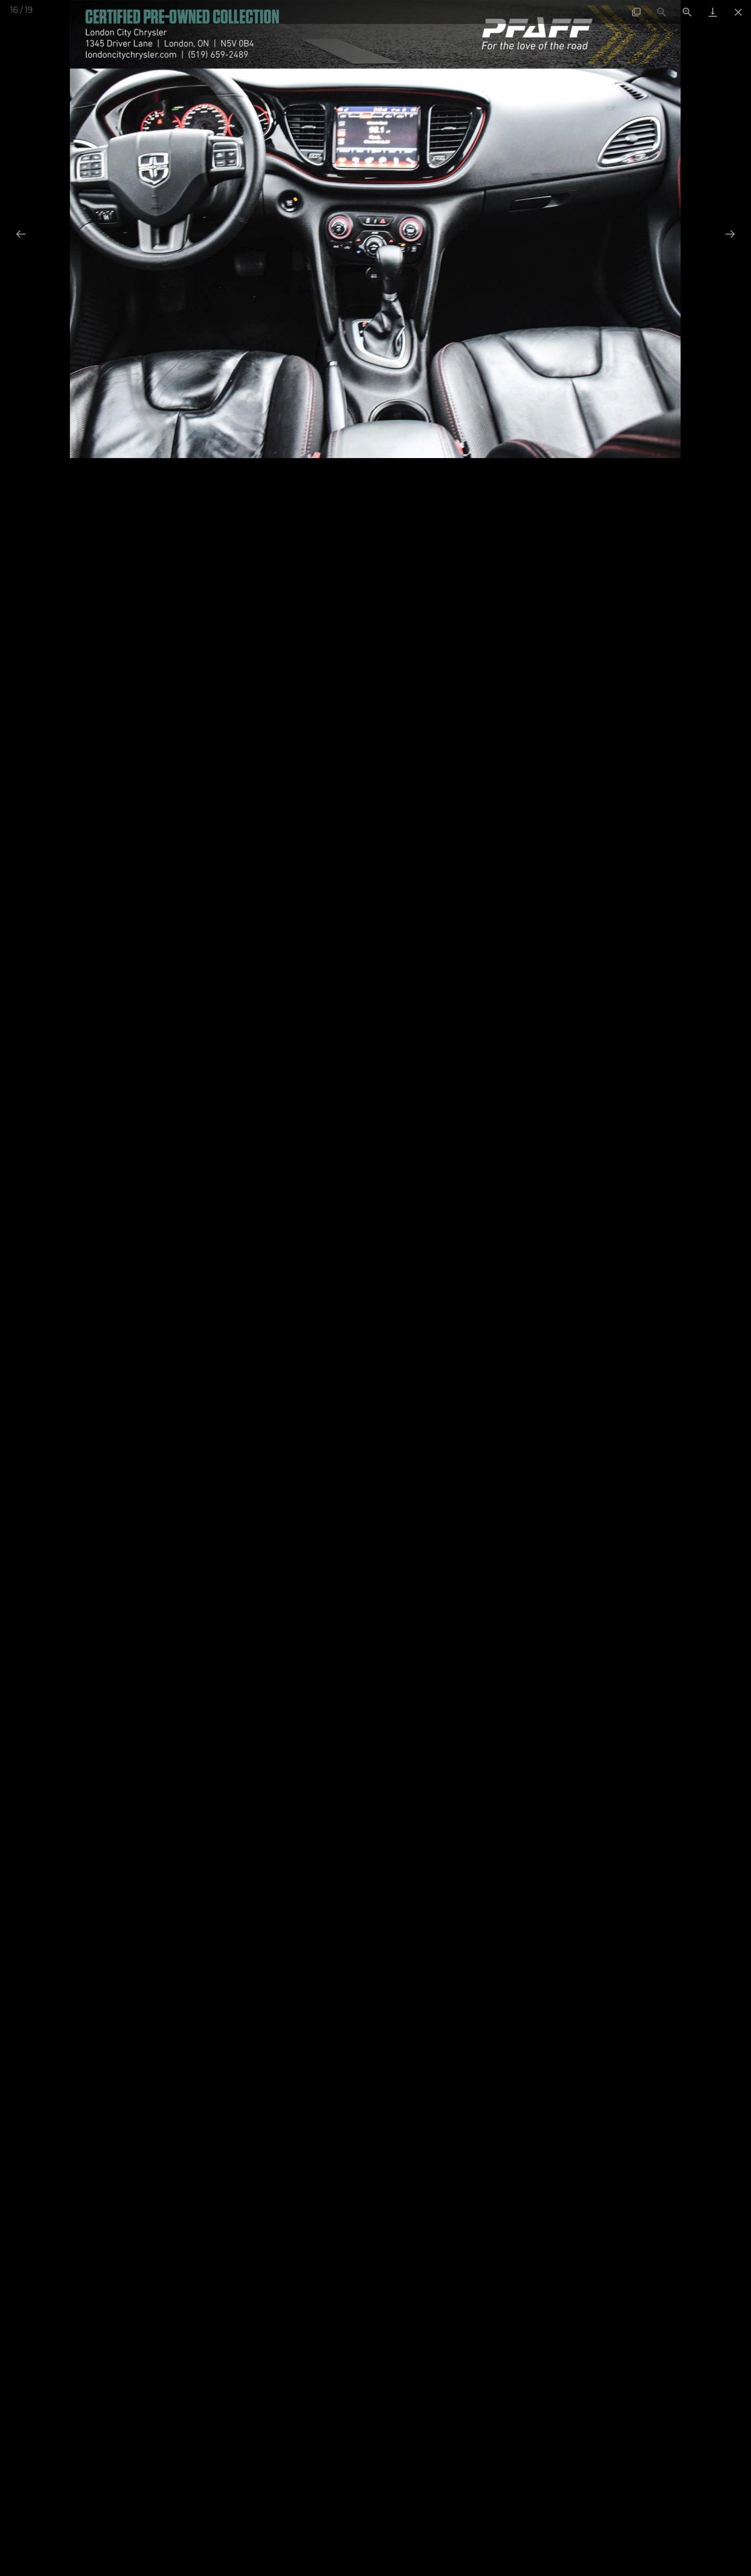car: (725, 230, 736, 240)
